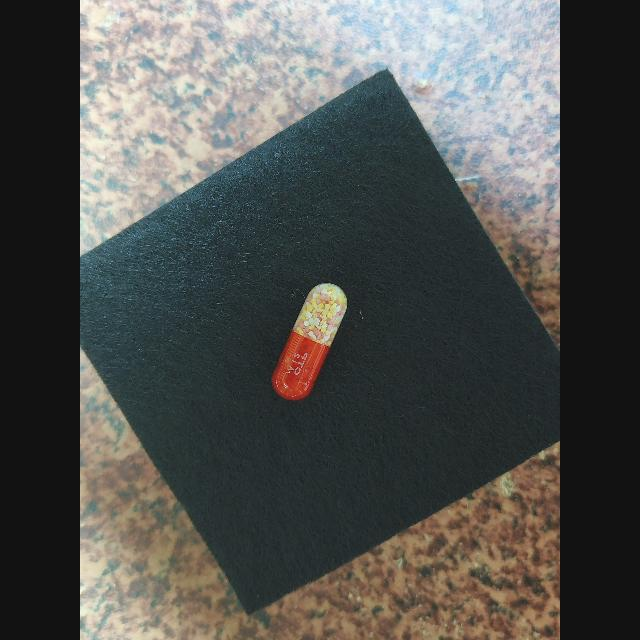Intact Capsule: (271, 283, 347, 400)
